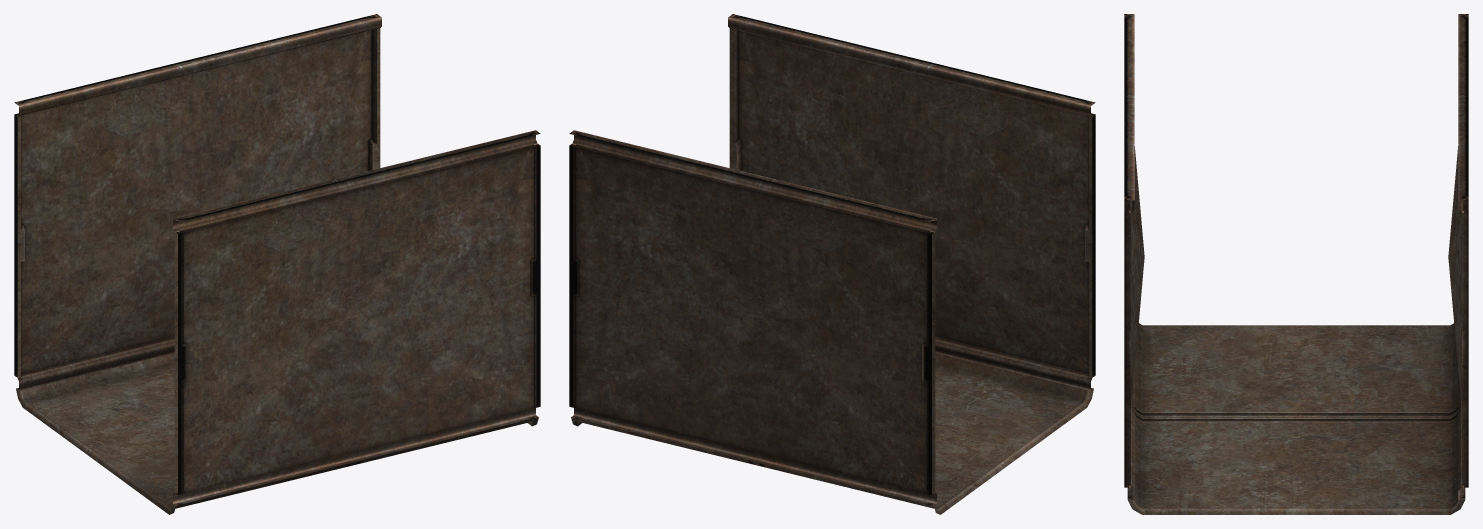
File: vent_shaft_straight_vent_top_rusty.dae
3 renders of one model, left to right at view 1: azimuth 30°, elevation 25°; view 2: azimuth 150°, elevation 25°; view 3: azimuth 270°, elevation 25°, orthographic. The views are drawn at different scales.
Visible parts, largest first — view 1: straight_vent_top; view 2: straight_vent_top; view 3: straight_vent_top.
Boxes of the visible parts, x1,y1,x2,y2 form: straight_vent_top: (14,14,540,514); straight_vent_top: (569,14,1095,514); straight_vent_top: (1124,14,1468,514).
Size of the model in its own units: 2 by 1.57 by 1.56.
